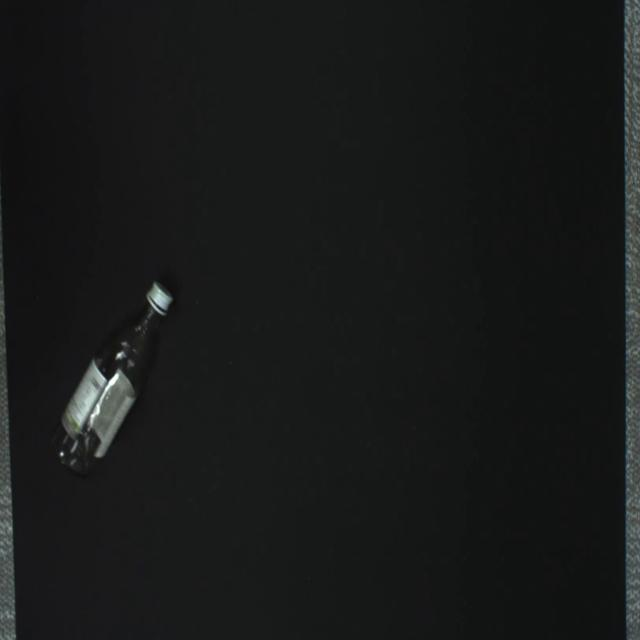soju-bottle: (49, 282, 174, 479)
